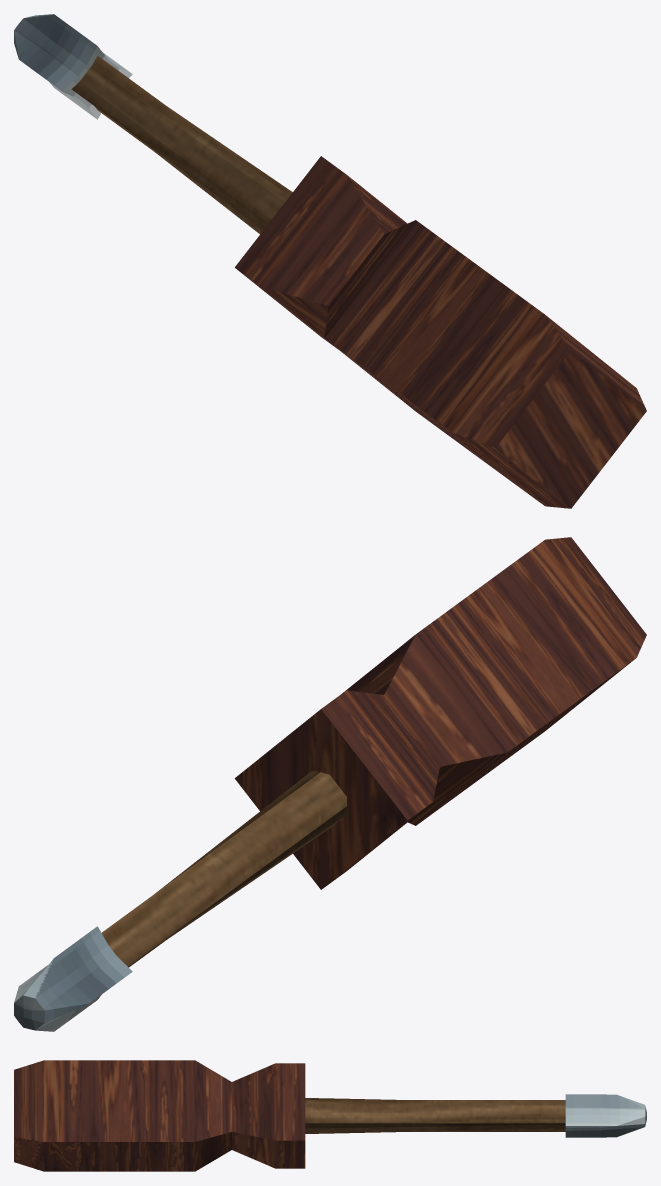
File: phillips_screwdriver.fbx
3 renders of one model, top to bottom at view 1: azimuth 30°, elevation 25°; view 2: azimuth 150°, elevation 25°; view 3: azimuth 270°, elevation 25°, orthographic. The views are drawn at different scales.
Visible parts, largest first — view 1: Combined; view 2: Combined; view 3: Combined.
Boxes of the visible parts, bbox=[...] form: Combined: bbox=[14, 14, 646, 508]; Combined: bbox=[14, 537, 646, 1031]; Combined: bbox=[14, 1060, 646, 1171].
Bounding box in the file's own units: 200 × 200 × 1028.
1 material, 1 textured.
